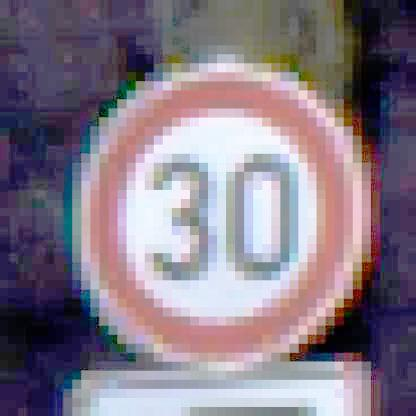Speed Limit -30-: (78, 56, 376, 374)
